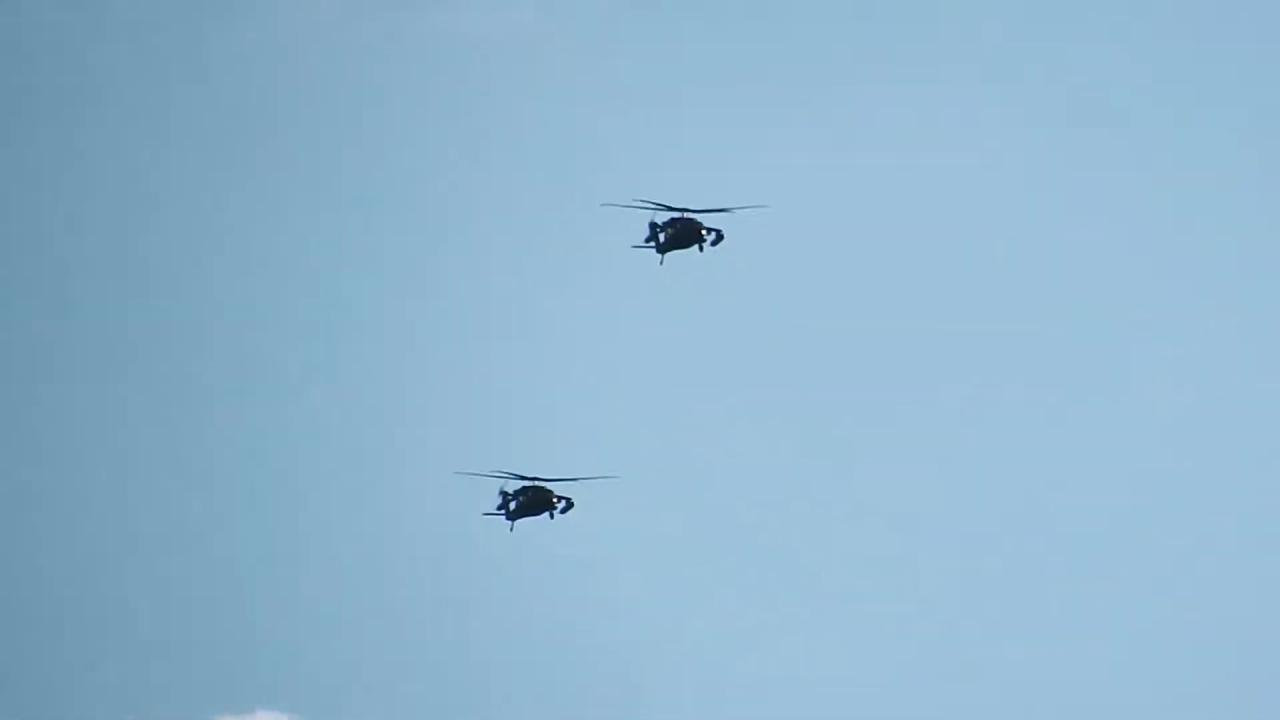Helicopter: (447, 456, 633, 550), (583, 190, 775, 266)
